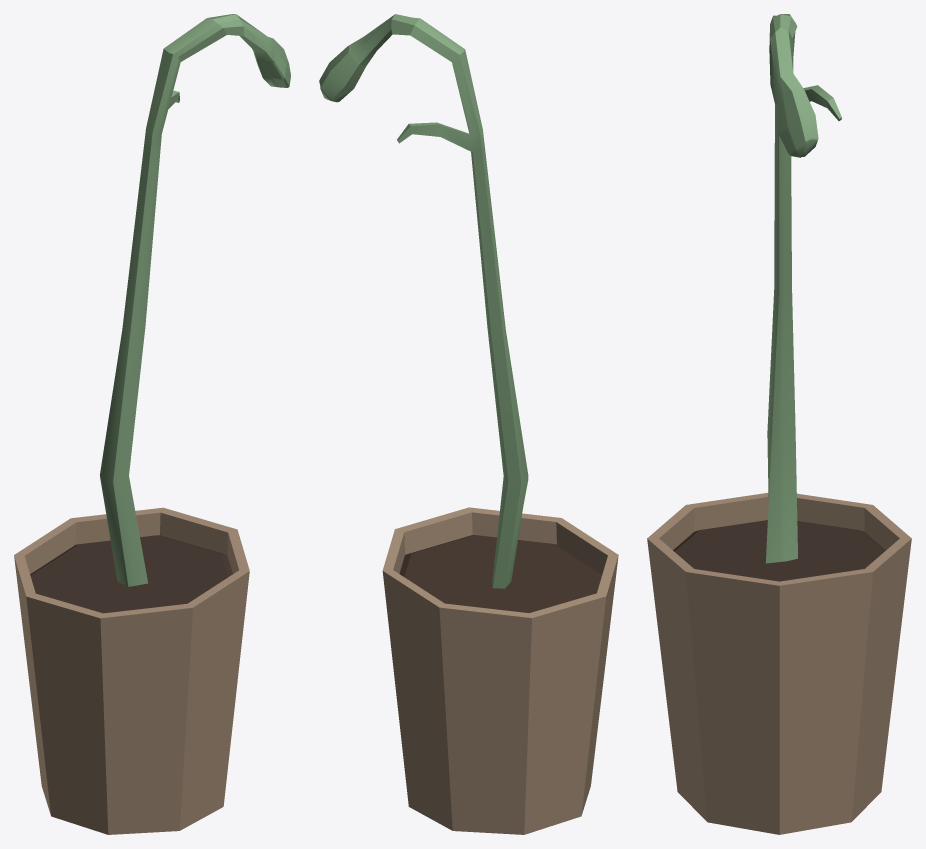
The model's file is Plant.fbx.
3 views of the same model, side by side, from view 1: azimuth 30°, elevation 25°; view 2: azimuth 150°, elevation 25°; view 3: azimuth 270°, elevation 25° (orthographic). The views are drawn at different scales.
Visible parts, largest first — view 1: Plant_Pot; view 2: Plant_Pot; view 3: Plant_Pot.
Part boxes in pixels (x1=…): Plant_Pot: x1=14, y1=14, x2=290, y2=834; Plant_Pot: x1=319, y1=14, x2=618, y2=834; Plant_Pot: x1=647, y1=14, x2=911, y2=834.
Size of the model in its own units: 1.14 by 3.01 by 0.8815.
